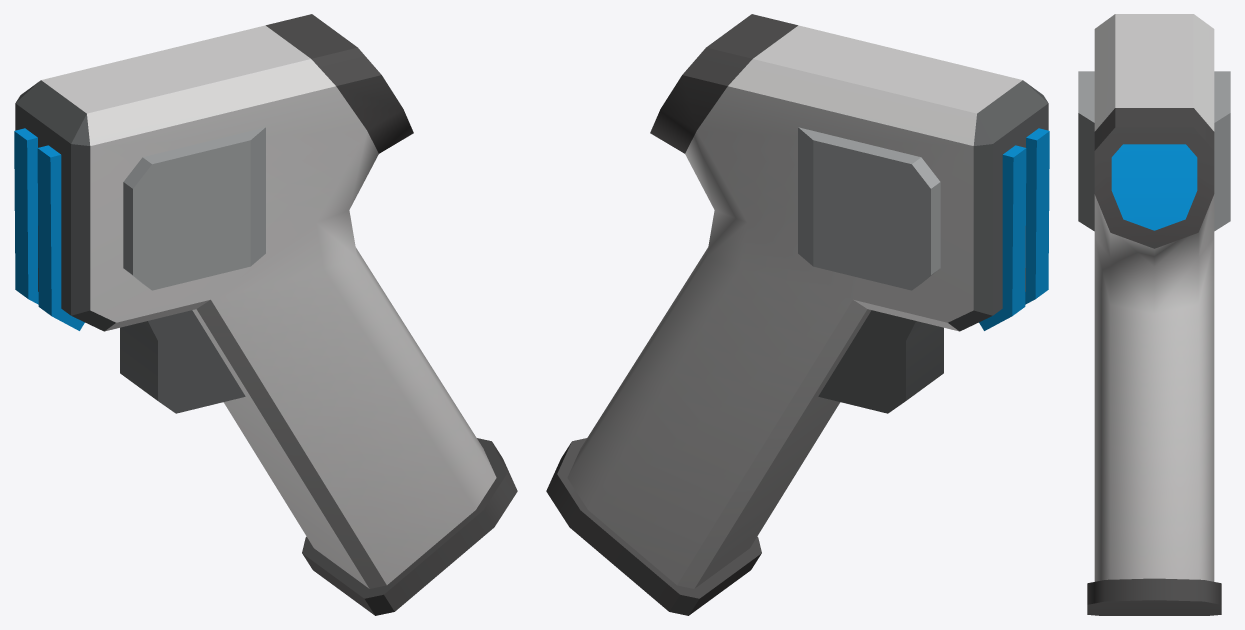
File: Scaner_002.fbx
The picture shows the model from 3 angles, left to right: view 1: azimuth 30°, elevation 25°; view 2: azimuth 150°, elevation 25°; view 3: azimuth 270°, elevation 25°; orthographic projection. The views are drawn at different scales.
Parts seen in each view (by area): view 1: Scaner_002; view 2: Scaner_002; view 3: Scaner_002.
Boxes of the visible parts, x1,y1,x2,y2 form: Scaner_002: (14, 14, 517, 615); Scaner_002: (546, 14, 1049, 615); Scaner_002: (1078, 14, 1230, 615).
Size of the model in its own units: 18.71 by 6.12 by 21.45.
